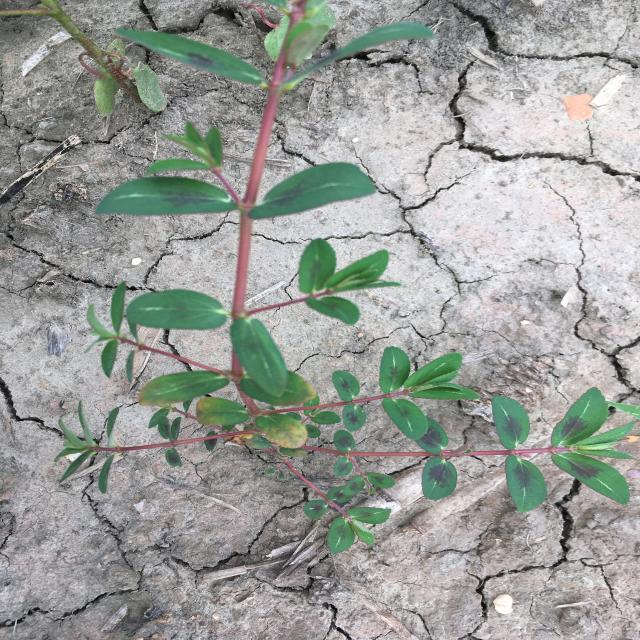SpottedSpurge: (54, 0, 638, 554)
